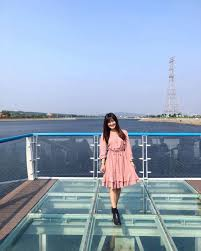people: (99, 112, 132, 228)
